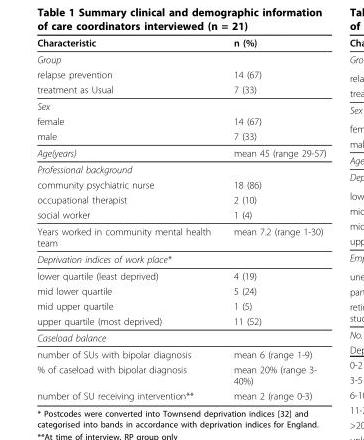table: (36, 36, 325, 401)
table column: (36, 36, 221, 401), (221, 36, 325, 401)
table column header: (36, 36, 325, 50)
table projected row header: (36, 250, 325, 267), (36, 50, 325, 66), (36, 97, 325, 113), (36, 160, 325, 176), (36, 329, 325, 345)
table row: (36, 222, 325, 250), (36, 361, 325, 387), (36, 250, 325, 267), (36, 50, 325, 66), (36, 81, 325, 97), (36, 97, 325, 113), (36, 128, 325, 144), (36, 144, 325, 160), (36, 160, 325, 176), (36, 206, 325, 222), (36, 267, 325, 283), (36, 313, 325, 329), (36, 329, 325, 345), (36, 345, 325, 361), (36, 66, 325, 81), (36, 113, 325, 128), (36, 176, 325, 191), (36, 191, 325, 206), (36, 283, 325, 298), (36, 298, 325, 313), (36, 36, 325, 50), (36, 387, 325, 401)
